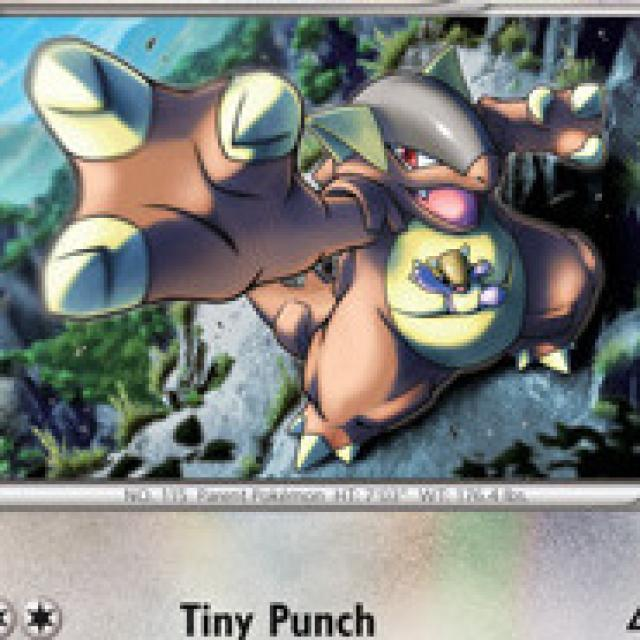Kangaskhan: (238, 73, 618, 469)
